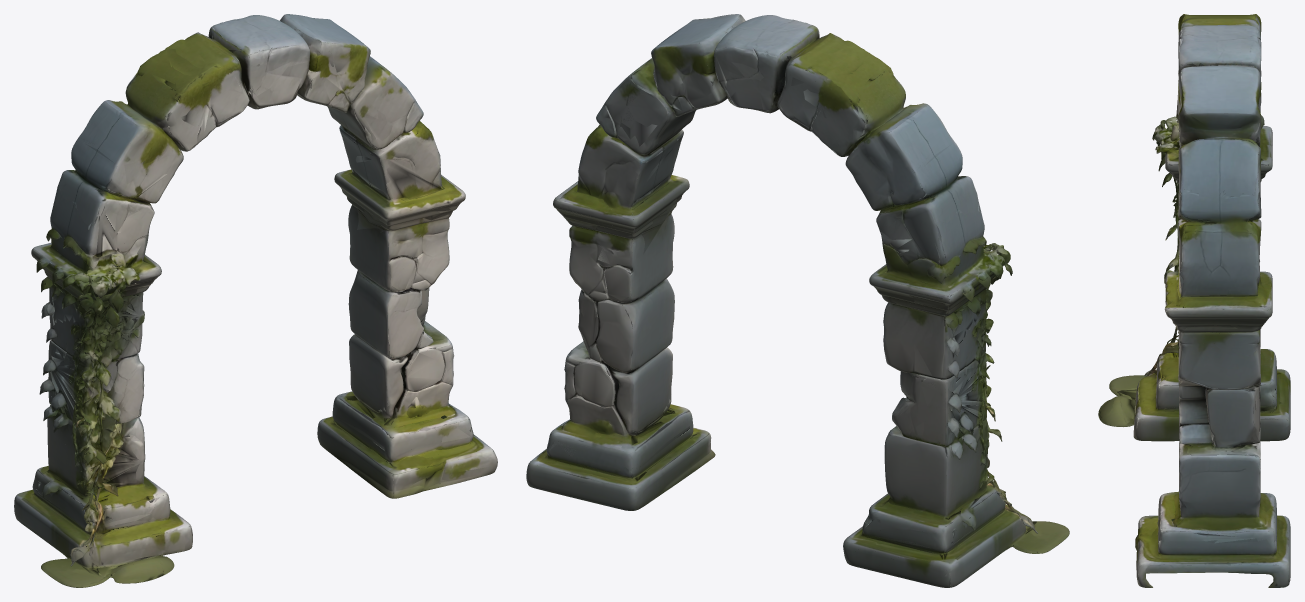
Rendered from arch.glb.
The picture shows the model from 3 angles, left to right: view 1: azimuth 30°, elevation 25°; view 2: azimuth 150°, elevation 25°; view 3: azimuth 270°, elevation 25°; orthographic projection. The views are drawn at different scales.
Parts seen in each view (by area): view 1: Stone_09, Stone_13, Stone_02, Stone_11, Stone_22, Stone_23, Stone_04, Stone_06, Stone_18, Stone_00, Stone_10, Stone_21 (+14 smaller); view 2: Stone_09, Stone_13, Stone_02, Stone_11, Stone_22, Stone_06, Stone_23, Stone_04, Stone_18, Stone_00, Stone_10, Stone_21 (+14 smaller); view 3: Stone_14, Stone_12, Stone_08, Stone_00, Stone_25, Stone_03, Stone_04, Stone_07, Stone_06, Stone_21, Stone_13, Stone_15 (+6 smaller).
Part boxes in pixels (x1=…): Stone_09: x1=79, y1=47, x2=210, y2=165; Stone_13: x1=32, y1=422, x2=157, y2=539; Stone_02: x1=46, y1=133, x2=138, y2=281; Stone_11: x1=31, y1=243, x2=125, y2=375; Stone_22: x1=332, y1=343, x2=444, y2=462; Stone_23: x1=334, y1=169, x2=450, y2=289; Stone_04: x1=169, y1=15, x2=309, y2=95; Stone_06: x1=348, y1=259, x2=433, y2=370; Stone_18: x1=39, y1=344, x2=119, y2=464; Stone_00: x1=339, y1=127, x2=456, y2=209; Stone_10: x1=317, y1=407, x2=447, y2=498; Stone_21: x1=18, y1=489, x2=174, y2=583; Stone_09: x1=817, y1=48, x2=954, y2=174; Stone_13: x1=874, y1=444, x2=1011, y2=551; Stone_02: x1=892, y1=142, x2=1006, y2=283; Stone_11: x1=879, y1=245, x2=1012, y2=386; Stone_22: x1=551, y1=356, x2=693, y2=479; Stone_06: x1=578, y1=269, x2=674, y2=384; Stone_23: x1=562, y1=173, x2=689, y2=297; Stone_04: x1=714, y1=15, x2=861, y2=93; Stone_18: x1=915, y1=354, x2=1002, y2=487; Stone_00: x1=557, y1=131, x2=683, y2=218; Stone_10: x1=545, y1=422, x2=715, y2=510; Stone_21: x1=853, y1=504, x2=1036, y2=587; Stone_14: x1=1158, y1=435, x2=1276, y2=544; Stone_12: x1=1164, y1=301, x2=1272, y2=416; Stone_08: x1=1178, y1=68, x2=1261, y2=162; Stone_00: x1=1165, y1=219, x2=1272, y2=309; Stone_25: x1=1178, y1=151, x2=1261, y2=234; Stone_03: x1=1136, y1=525, x2=1290, y2=587; Stone_04: x1=1178, y1=15, x2=1261, y2=72; Stone_07: x1=1113, y1=379, x2=1290, y2=441; Stone_06: x1=1179, y1=386, x2=1260, y2=447; Stone_21: x1=1098, y1=368, x2=1290, y2=426; Stone_13: x1=1152, y1=327, x2=1276, y2=388; Stone_15: x1=1155, y1=127, x2=1272, y2=183.
Bounding box in the file's own units: 3.66 × 3.66 × 1.39.
1 material, 1 textured.
